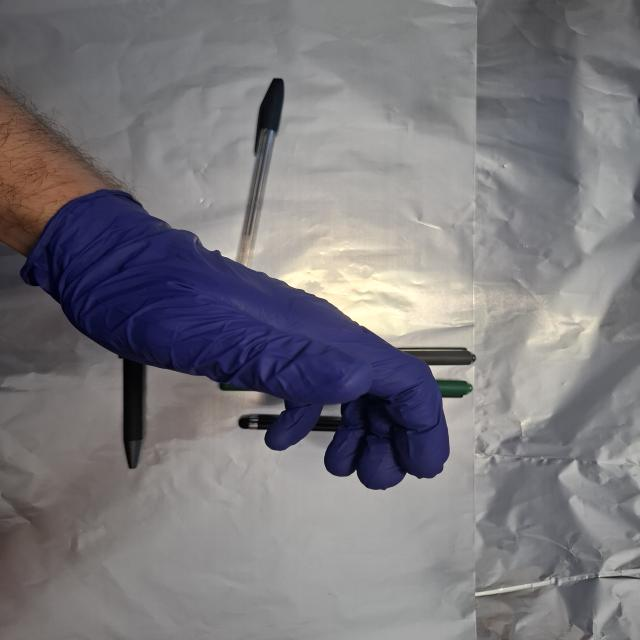glove_on: (25, 186, 455, 494)
